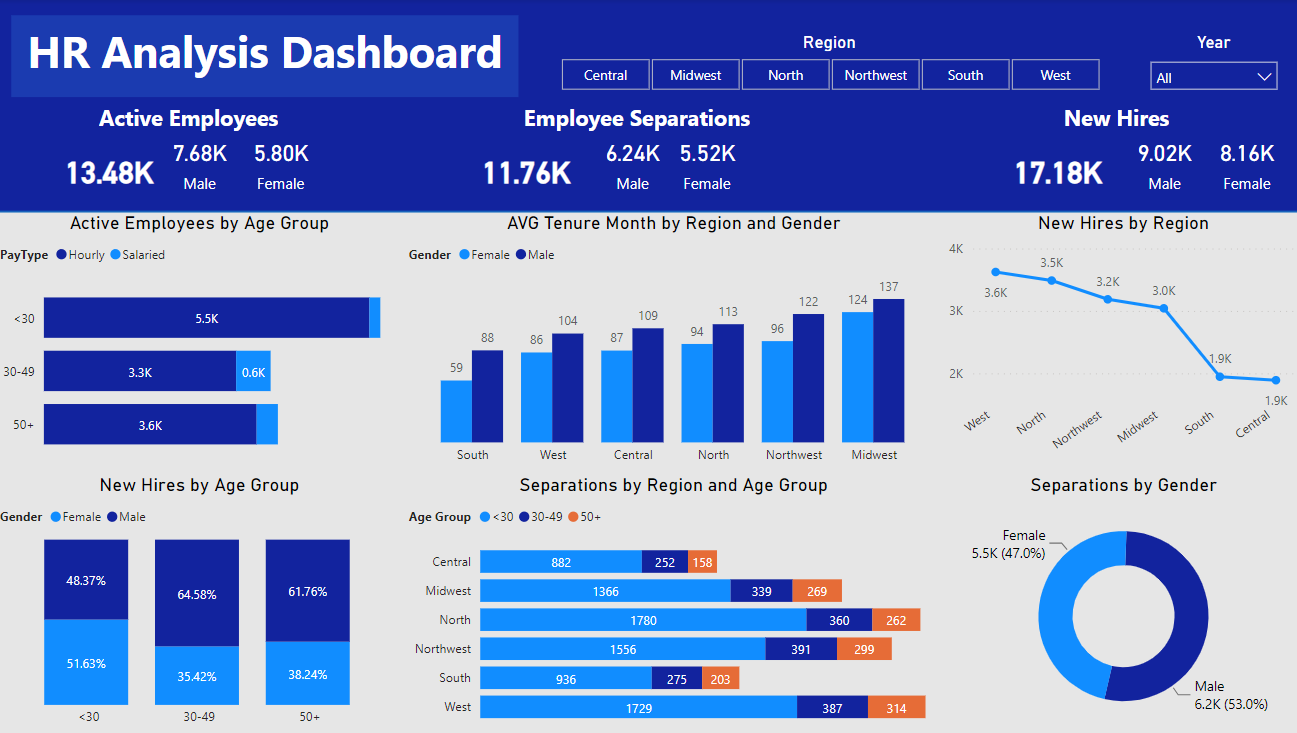

Layout of this report page (visuals, bound fields, positions):
{"tool":"powerbi","page":{"name":"HR Analysis Report","canvas":[1280,720],"ordinal":0},"visuals":[{"type":"shape","box":[0,208,1280,512],"z":0},{"type":"shape","box":[0,0,1280,208],"z":1000},{"type":"textbox","box":[16,16,496,80],"z":2000},{"type":"slicer","title":"Region","fields":{"Values":["BU.Region"]},"box":[528,32,576,64],"z":3000},{"type":"slicer","title":"Year","fields":{"Values":["Date.Date.Variation.Date Hierarchy.Year"]},"box":[1120,32,144,64],"z":4000},{"type":"textbox","box":[96,96,224,48],"z":5000},{"type":"textbox","box":[512,96,240,48],"z":6000},{"type":"textbox","box":[1040,96,208,48],"z":7000},{"type":"card","fields":{"Values":["Employee.Active Employees"]},"box":[48,144,128,48],"z":8000},{"type":"card","fields":{"Values":["Employee.Separations"]},"box":[448,144,144,48],"z":9000},{"type":"card","fields":{"Values":["Employee.New Hires"]},"box":[976,144,128,48],"z":10000},{"type":"barChart","title":"Active Employees by Age Group","fields":{"Category":["AgeGroup.Age Group"],"Y":["Employee.Active Employees"],"Series":["PayType.PayType"]},"box":[0,208,400,256],"z":11000},{"type":"hundredPercentStackedColumnChart","title":"New Hires by Age Group","fields":{"Category":["AgeGroup.Age Group"],"Y":["Employee.New Hires"],"Series":["Gender.Gender"]},"box":[0,464,400,256],"z":12000},{"type":"clusteredColumnChart","fields":{"Y":["Employee.AVG Tenure Month"],"Category":["BU.Region"],"Series":["Gender.Gender"]},"box":[400,208,528,256],"z":13000},{"type":"lineChart","fields":{"Y":["Employee.New Hires"],"Category":["BU.Region"]},"box":[928,208,352,256],"z":14000},{"type":"donutChart","fields":{"Y":["Employee.Separations"],"Category":["Gender.Gender"]},"box":[928,464,352,256],"z":15000},{"type":"barChart","fields":{"Y":["Employee.Separations"],"Category":["BU.Region"],"Series":["AgeGroup.Age Group"]},"box":[400,464,528,256],"z":16000},{"type":"card","fields":{"Values":["Employee.Male Employee Active"]},"box":[160,128,80,64],"z":17000},{"type":"card","fields":{"Values":["Employee.Female Employee Active"]},"box":[240,128,80,64],"z":18000},{"type":"card","fields":{"Values":["Employee.Male Separations"]},"box":[592,128,64,64],"z":19000},{"type":"card","fields":{"Values":["Employee.Female Separations"]},"box":[656,128,80,64],"z":20000},{"type":"card","fields":{"Values":["Employee.Male New Hires"]},"box":[1104,128,80,64],"z":21000},{"type":"card","fields":{"Values":["Employee.Female New Hires"]},"box":[1184,128,80,64],"z":22000}]}

Visuals, with their boxes in screenshot pixels (x1, y1, x2, y2), scaled from the page's 1280x720 canvas onto the 1297x733 screenshot:
shape: select_region(0, 212, 1296, 732)
shape: select_region(0, 0, 1296, 212)
textbox: select_region(16, 16, 519, 98)
"Region" slicer: select_region(535, 33, 1119, 98)
"Year" slicer: select_region(1135, 33, 1281, 98)
textbox: select_region(97, 98, 324, 147)
textbox: select_region(519, 98, 762, 147)
textbox: select_region(1054, 98, 1265, 147)
card - Employee.Active Employees: select_region(49, 147, 178, 195)
card - Employee.Separations: select_region(454, 147, 600, 195)
card - Employee.New Hires: select_region(989, 147, 1119, 195)
"Active Employees by Age Group" barChart: select_region(0, 212, 405, 472)
"New Hires by Age Group" hundredPercentStackedColumnChart: select_region(0, 472, 405, 732)
clusteredColumnChart - Employee.AVG Tenure Month x BU.Region: select_region(405, 212, 940, 472)
lineChart - Employee.New Hires x BU.Region: select_region(940, 212, 1296, 472)
donutChart - Employee.Separations x Gender.Gender: select_region(940, 472, 1296, 732)
barChart - Employee.Separations x BU.Region: select_region(405, 472, 940, 732)
card - Employee.Male Employee Active: select_region(162, 130, 243, 195)
card - Employee.Female Employee Active: select_region(243, 130, 324, 195)
card - Employee.Male Separations: select_region(600, 130, 665, 195)
card - Employee.Female Separations: select_region(665, 130, 746, 195)
card - Employee.Male New Hires: select_region(1119, 130, 1200, 195)
card - Employee.Female New Hires: select_region(1200, 130, 1281, 195)
